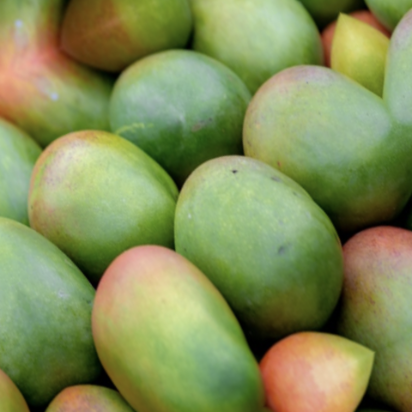mango: (131, 115, 379, 372), (210, 21, 412, 280), (49, 209, 290, 412), (72, 0, 279, 203)
